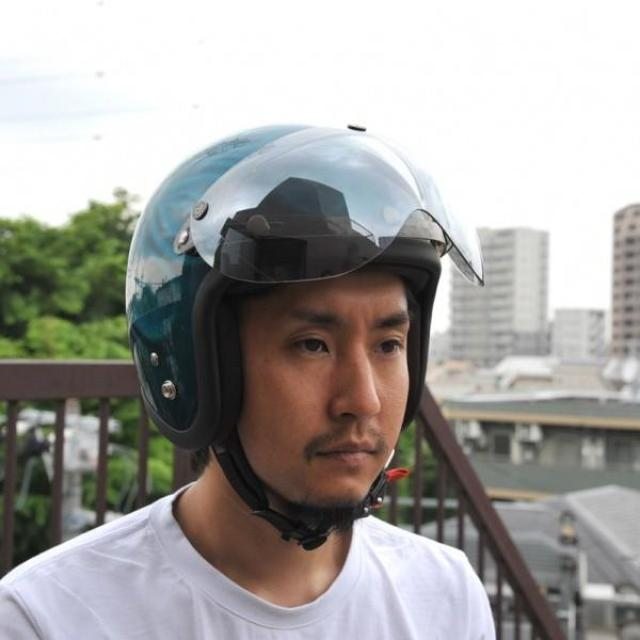helmet: (111, 107, 492, 558)
